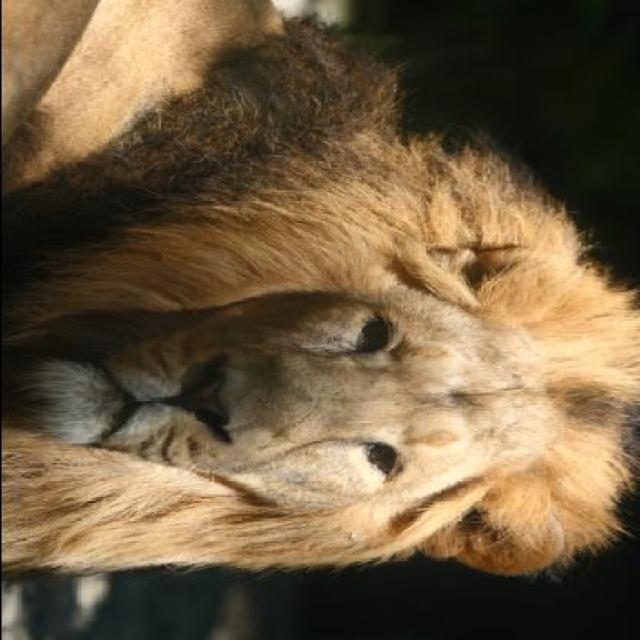Lion: (2, 7, 626, 638)
